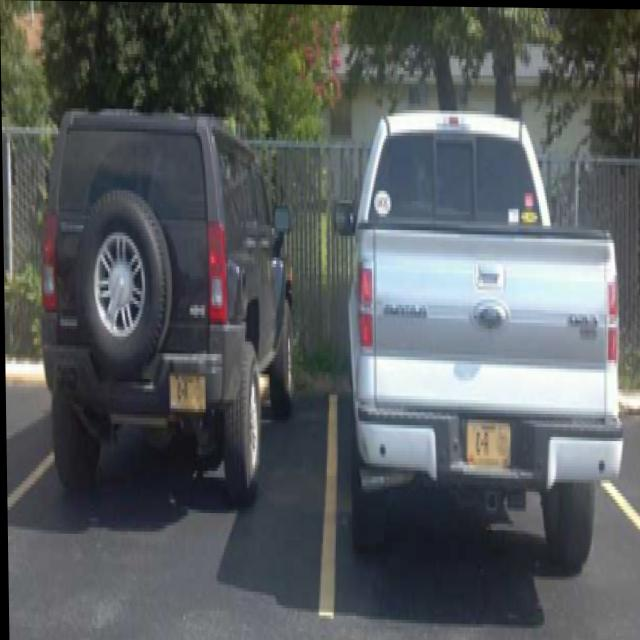licence: (466, 415, 509, 467)
